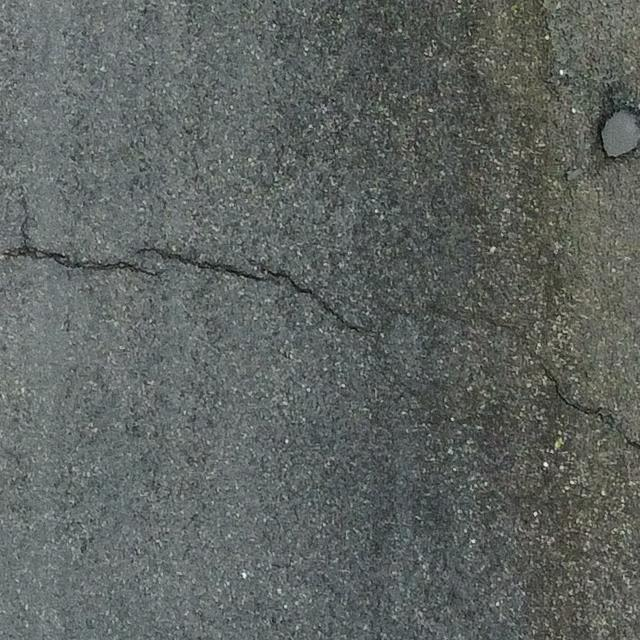TransverseCrack: (2, 234, 367, 335), (533, 360, 640, 449)
